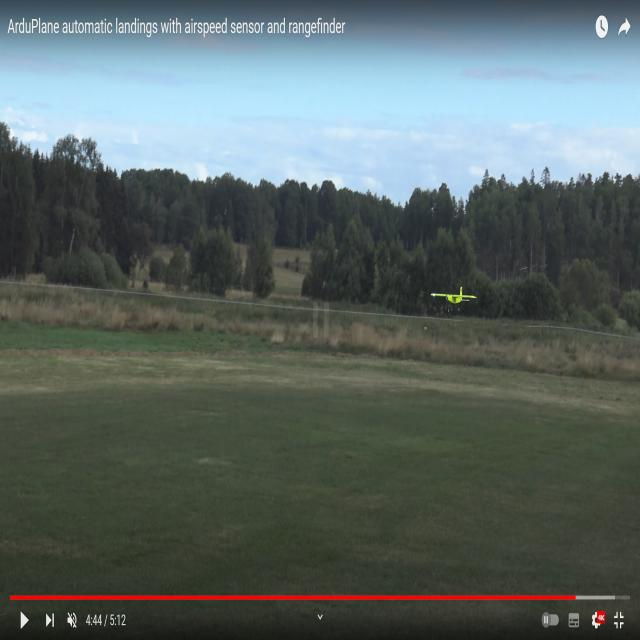iha: (426, 289, 470, 311)
